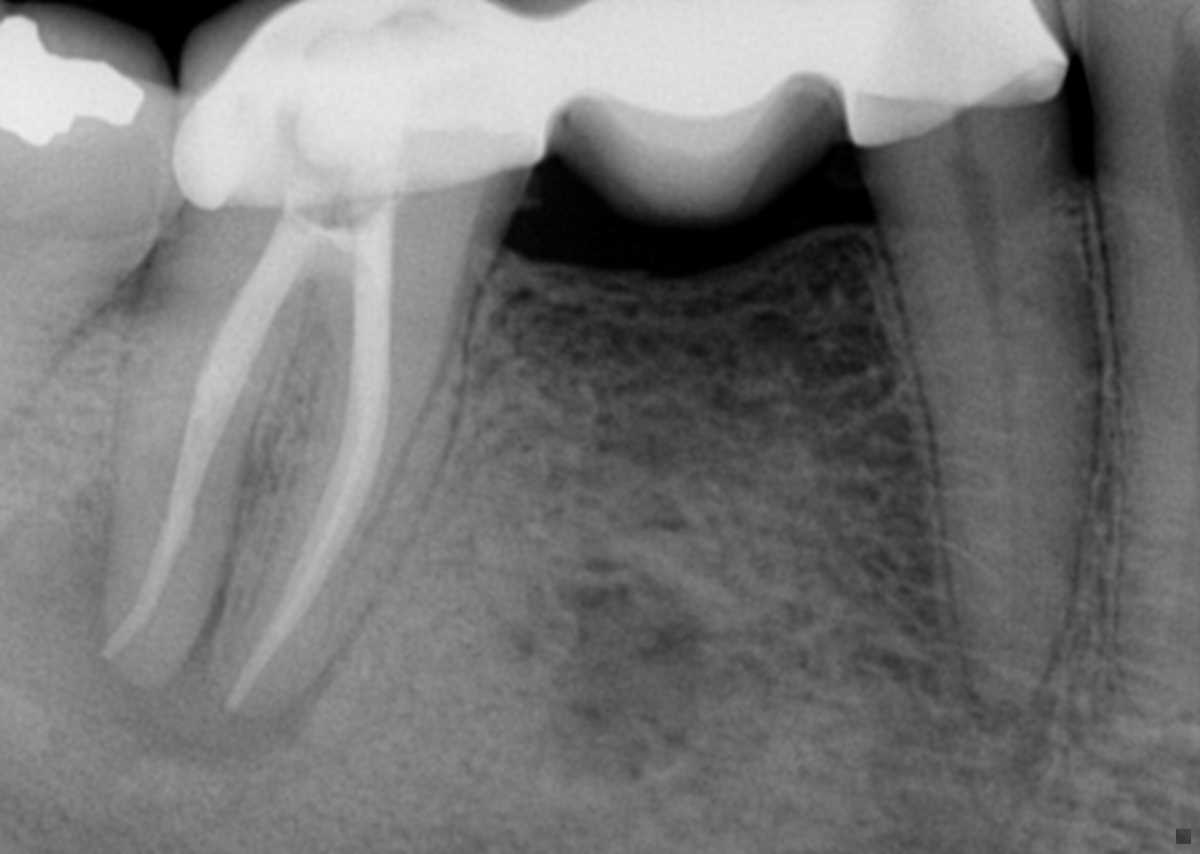Apical Lesion: (40, 493, 330, 757), (981, 691, 1057, 761)
Distal Root: (102, 286, 300, 685)
Main Canal: (971, 223, 1024, 649)
Main Root: (889, 201, 1100, 709), (1092, 202, 1200, 719), (0, 260, 123, 449)
Mesial Root: (216, 310, 470, 713)
Root Canal Filling: (96, 207, 321, 661), (225, 201, 391, 710)
